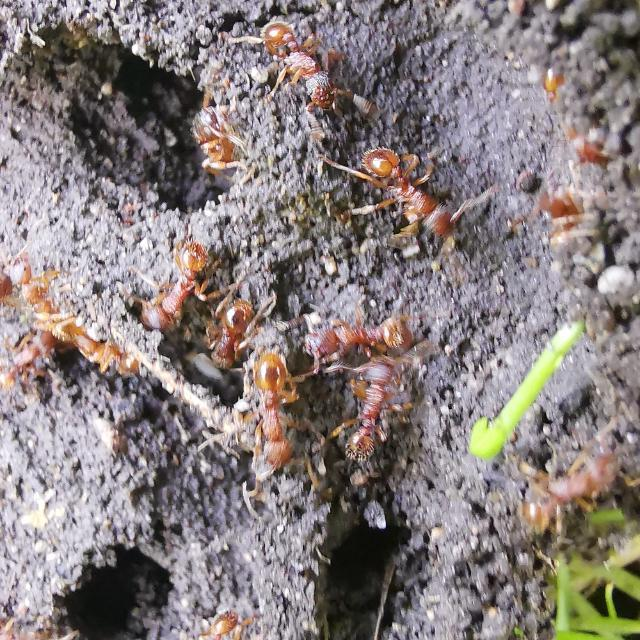Myrmica: (498, 410, 638, 542), (344, 131, 478, 261), (245, 6, 361, 124), (227, 342, 321, 486), (128, 227, 225, 336), (324, 352, 418, 464), (298, 296, 420, 366), (503, 170, 597, 252), (538, 66, 610, 170), (175, 84, 251, 182), (193, 278, 265, 378), (59, 304, 147, 384), (0, 320, 62, 406), (164, 597, 254, 639), (24, 250, 70, 320), (0, 246, 34, 320)
